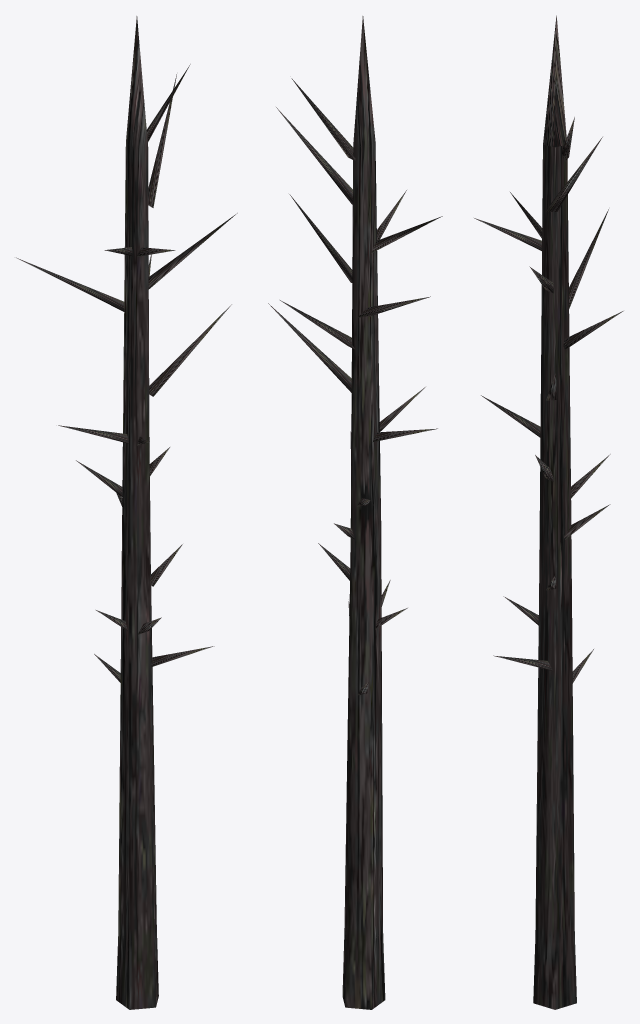
3 views of the same model, side by side, from view 1: azimuth 30°, elevation 25°; view 2: azimuth 150°, elevation 25°; view 3: azimuth 270°, elevation 25° (orthographic).
Visible parts, largest first — view 1: Tree06; view 2: Tree06; view 3: Tree06.
Part boxes in pixels (x1,y1,x2,y2): Tree06: [16, 16, 237, 1009]; Tree06: [268, 16, 442, 1009]; Tree06: [474, 15, 623, 1009].
Bounding box in the file's own units: 165 × 809 × 114.
